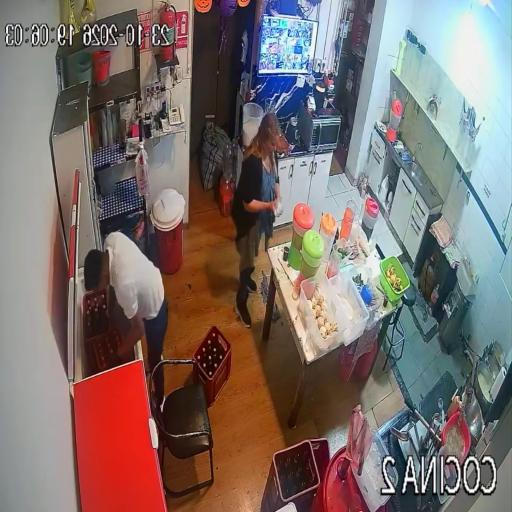Envase Llajua: (448, 395, 465, 417)
Jarra1: (362, 197, 379, 241)
Jarra2: (319, 213, 337, 259)
Microondas: (298, 105, 341, 151)
Persona3: (232, 113, 286, 328), (84, 232, 167, 367)
Taper2: (358, 272, 382, 312)
Taper3: (329, 272, 369, 345)
Taper4: (298, 274, 349, 359)
